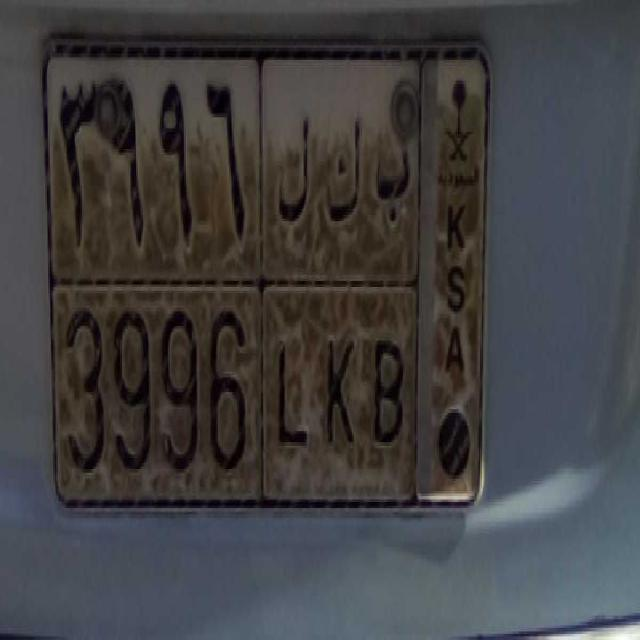license_plate: (51, 281, 416, 507)
